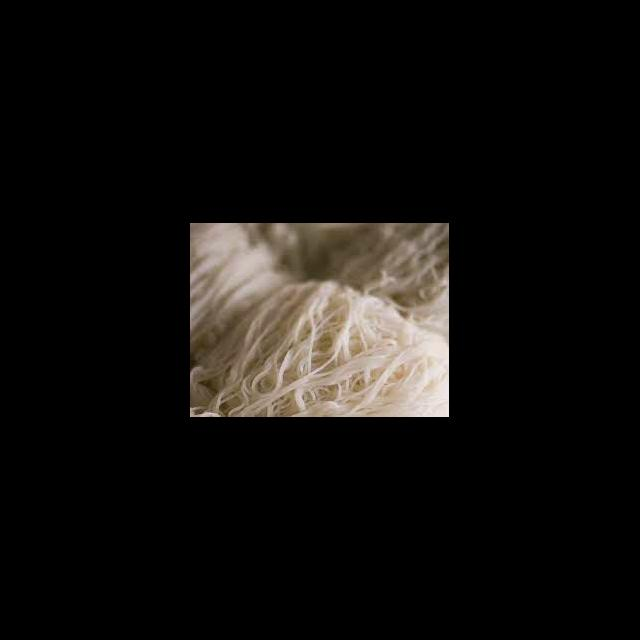noodles: (248, 283, 418, 413)
